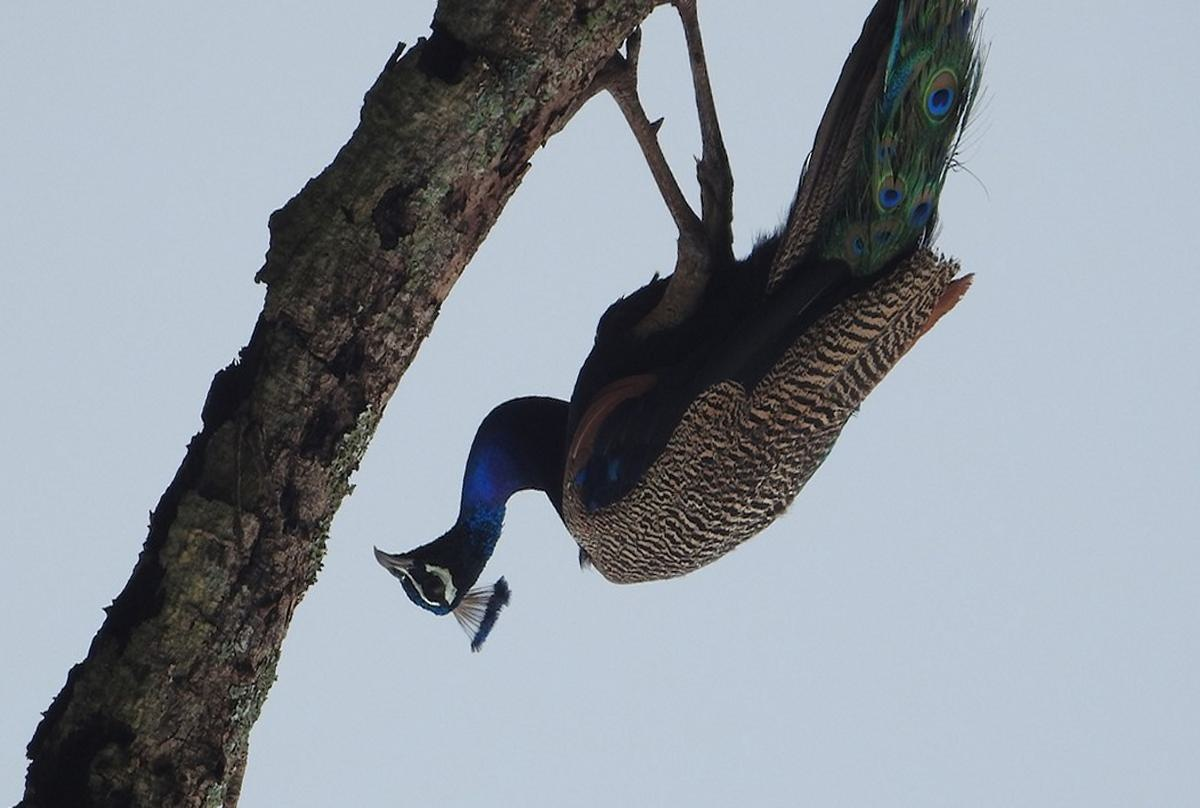peacock: (329, 88, 963, 650)
